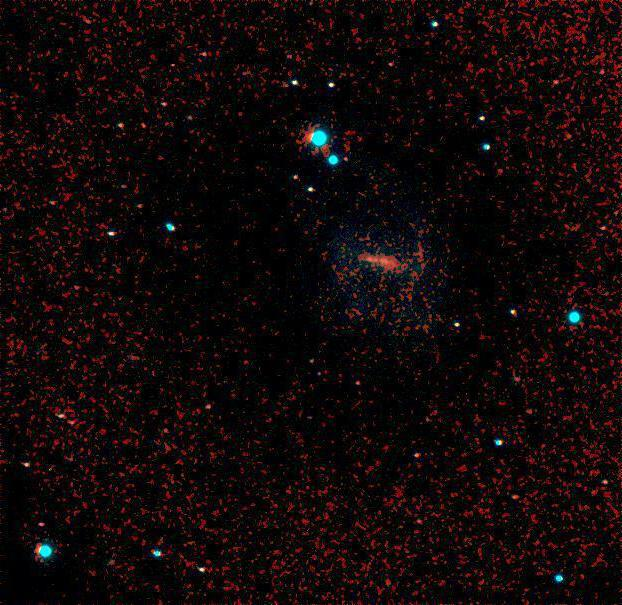star: (602, 199, 622, 229)
